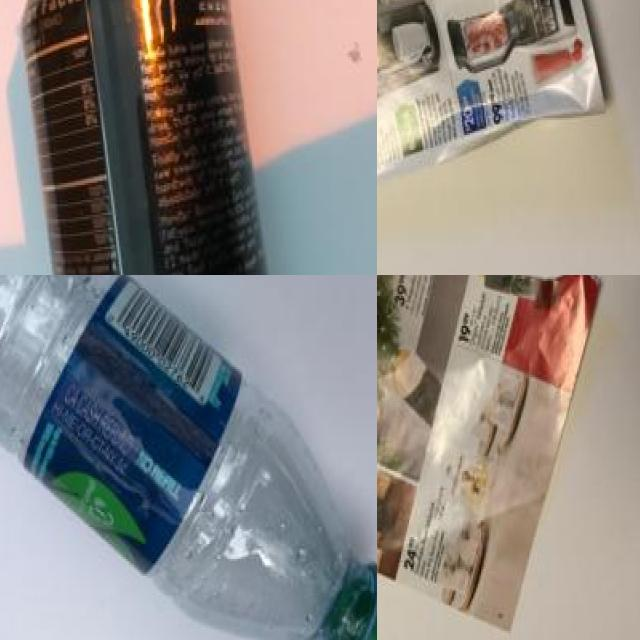paper: (377, 275, 586, 612), (377, 0, 613, 233)
plastic: (0, 275, 377, 640), (0, 0, 303, 275)
